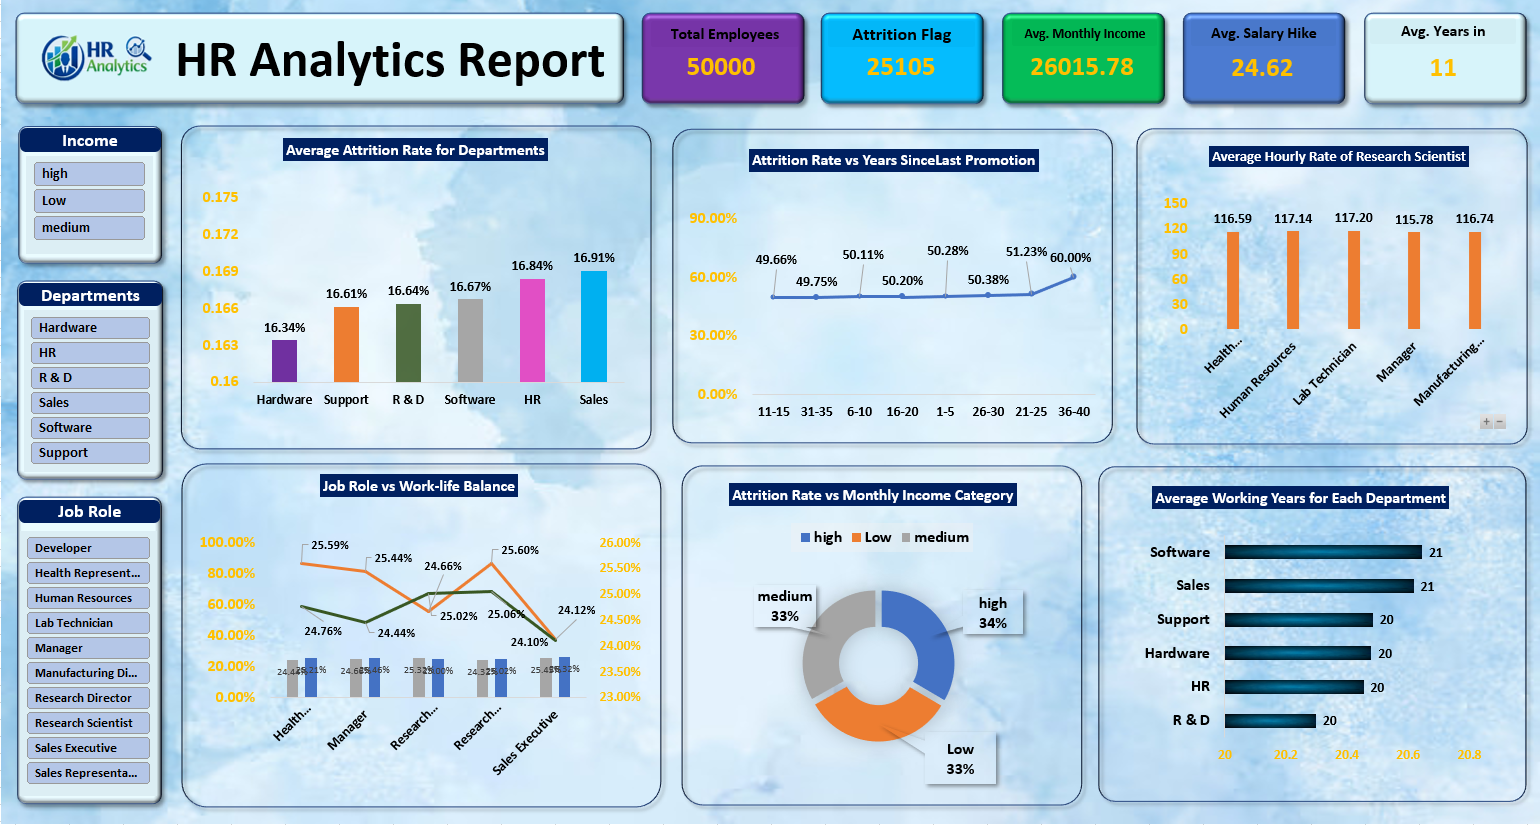

What the dashboard file says about the page in this screenshot:
{"tool":"tableau","page":{"name":"Dashboard","canvas":[1000,1000],"units":"permille","ordinal":0},"visuals":[{"type":"worksheet","title":"card 1","mark":"Automatic","box":[375.7,22,122.3,133.1]},{"type":"worksheet","title":"card 2","mark":"Automatic","box":[497.9,22,122.3,133.1]},{"type":"worksheet","title":"card 3","mark":"Automatic","box":[620.2,22,121.7,133.1]},{"type":"worksheet","title":"card 4","mark":"Automatic","box":[742,22,121.7,133.1]},{"type":"worksheet","title":"card 5","mark":"Automatic","box":[863.7,22,121.7,133.1]},{"type":"image","param":"Image/WhatsApp Image 2026-04-04 at 5.42.34 PM (2).jpeg","box":[11.2,23.2,83.7,133.1]},{"type":"text","box":[94.9,23.2,277.4,133.1]},{"type":"filter","title":"KPI 2","param":"[federated.1ep294207loppm190ibih1n66n5s].[none:Gender:nk]","box":[10,166.7,110.6,145.8]},{"type":"worksheet","title":"KPI 2","mark":"Automatic","rows":["HourlyRate"],"cols":["Gender","JobRole"],"box":[127.6,171.3,286.1,395.8]},{"type":"worksheet","title":"KPI 3","mark":"Pie","rows":["Calculation_965740701751967744","Calculation_965740701751967744"],"box":[413.7,171.3,286.1,395.8]},{"type":"worksheet","title":"KPI 4","mark":"Bar","rows":["Department"],"cols":["TotalWorkingYears"],"box":[699.8,171.3,285.6,395.8]},{"type":"filter","title":"KPI 1","param":"[federated.1ep294207loppm190ibih1n66n5s].[none:WorkLifeBalance (1-4):qk]","box":[10,312.5,110.6,127.3]},{"type":"filter","title":"KPI 5","param":"[federated.1ep294207loppm190ibih1n66n5s].[none:Department:nk]","box":[10,439.8,110.6,254.6]},{"type":"worksheet","title":"KPI 1","mark":"Line","rows":["Attrition Flag"],"cols":["Department"],"box":[127.6,576.4,286.1,395.8]},{"type":"worksheet","title":"KPI 5","mark":"Automatic","rows":["JobRole"],"box":[413.7,576.4,286.1,395.8]},{"type":"worksheet","title":"KPI 6","mark":"Circle","box":[699.8,576.4,285.6,395.8]},{"type":"filter","title":"KPI 5","param":"[federated.1ep294207loppm190ibih1n66n5s].[none:JobRole:nk]","box":[10,694.5,110.6,282.4]}]}

Visuals, with their boxes on the dashboard's canvas, which has no fixed pixel size, in thousandths of its width and height (x1, y1, x2, y2). These are canvas units, not pixel positions in the 1540x825 screenshot, which may show the page scaled, cropped or inside an application window:
"card 1" worksheet: l=376, t=22, r=498, b=155
"card 2" worksheet: l=498, t=22, r=620, b=155
"card 3" worksheet: l=620, t=22, r=742, b=155
"card 4" worksheet: l=742, t=22, r=864, b=155
"card 5" worksheet: l=864, t=22, r=985, b=155
image: l=11, t=23, r=95, b=156
text: l=95, t=23, r=372, b=156
"KPI 2" filter: l=10, t=167, r=121, b=312
"KPI 2" worksheet: l=128, t=171, r=414, b=567
"KPI 3" worksheet (Pie marks): l=414, t=171, r=700, b=567
"KPI 4" worksheet (Bar marks): l=700, t=171, r=985, b=567
"KPI 1" filter: l=10, t=312, r=121, b=440
"KPI 5" filter: l=10, t=440, r=121, b=694
"KPI 1" worksheet (Line marks): l=128, t=576, r=414, b=972
"KPI 5" worksheet: l=414, t=576, r=700, b=972
"KPI 6" worksheet (Circle marks): l=700, t=576, r=985, b=972
"KPI 5" filter: l=10, t=694, r=121, b=977
